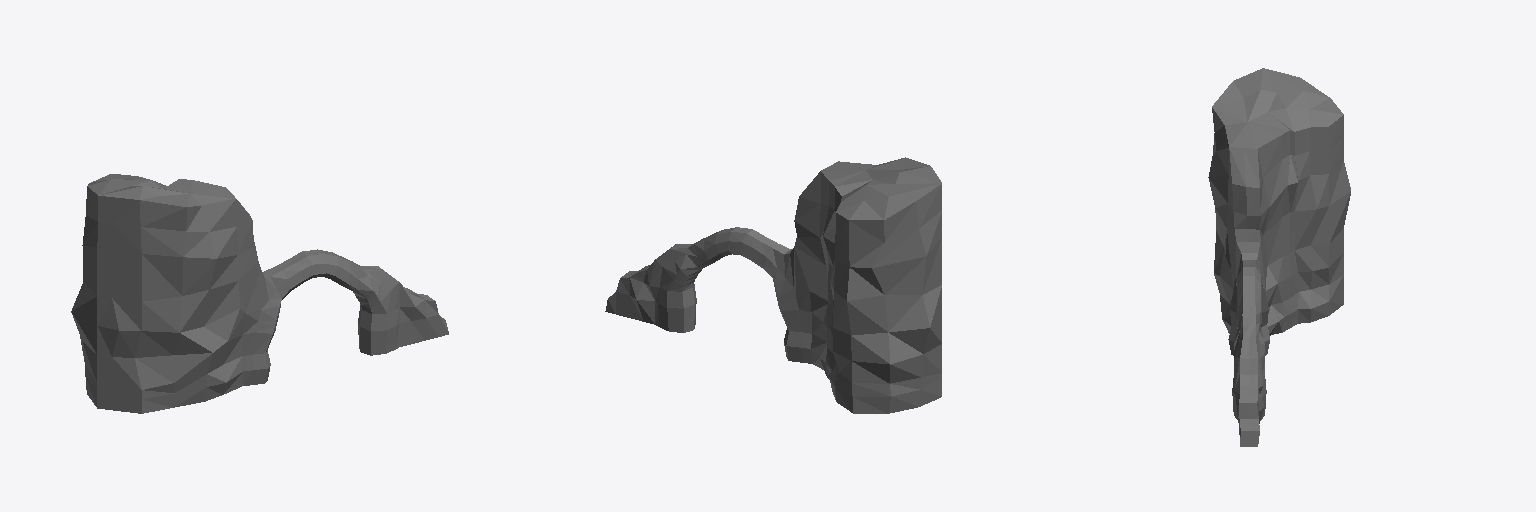
File: Overpass_parts.obj
The picture shows the model from 3 angles: view 1: azimuth 30°, elevation 25°; view 2: azimuth 150°, elevation 25°; view 3: azimuth 270°, elevation 25°; orthographic projection.
Parts seen in each view (by area): view 1: Overpass_split Overpass_front, Overpass_split Overpass_top, Overpass_split Overpass_end, Overpass_middle Overpass_split, Overpass_split Overpass_back; view 2: Overpass_split Overpass_back, Overpass_split Overpass_end, Overpass_split Overpass_top, Overpass_middle Overpass_split; view 3: Overpass_split Overpass_back, Overpass_split Overpass_top, Overpass_split Overpass_front, Overpass_split Overpass_end, Overpass_middle Overpass_split.
Part boxes in pixels (left/top/right/bottom): Overpass_split Overpass_front: left=135, top=199, right=280, bottom=413; Overpass_split Overpass_top: left=88, top=174, right=257, bottom=413; Overpass_split Overpass_end: left=356, top=266, right=448, bottom=355; Overpass_middle Overpass_split: left=263, top=249, right=373, bottom=305; Overpass_split Overpass_back: left=71, top=186, right=97, bottom=406; Overpass_split Overpass_back: left=774, top=171, right=941, bottom=413; Overpass_split Overpass_end: left=605, top=244, right=698, bottom=332; Overpass_split Overpass_top: left=821, top=157, right=941, bottom=219; Overpass_middle Overpass_split: left=680, top=227, right=792, bottom=283; Overpass_split Overpass_back: left=1258, top=115, right=1350, bottom=355; Overpass_split Overpass_top: left=1212, top=68, right=1343, bottom=252; Overpass_split Overpass_front: left=1208, top=108, right=1240, bottom=355; Overpass_split Overpass_end: left=1232, top=325, right=1266, bottom=446; Overpass_middle Overpass_split: left=1234, top=253, right=1264, bottom=342.
Size of the model in its own units: 16.78 by 9.89 by 5.99.